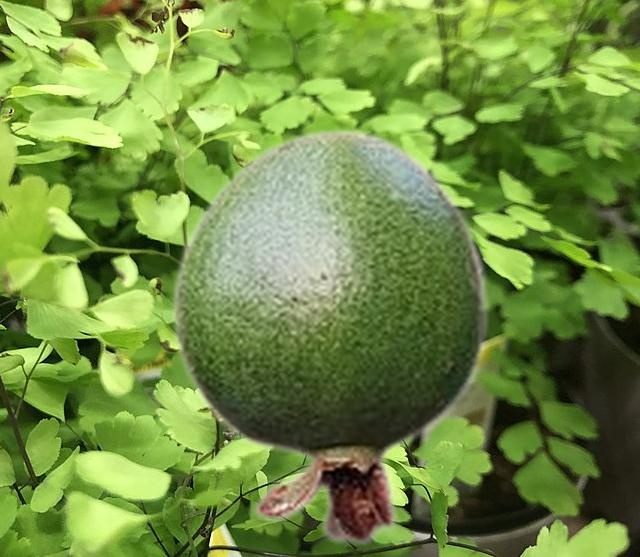guava: (170, 126, 491, 547)
